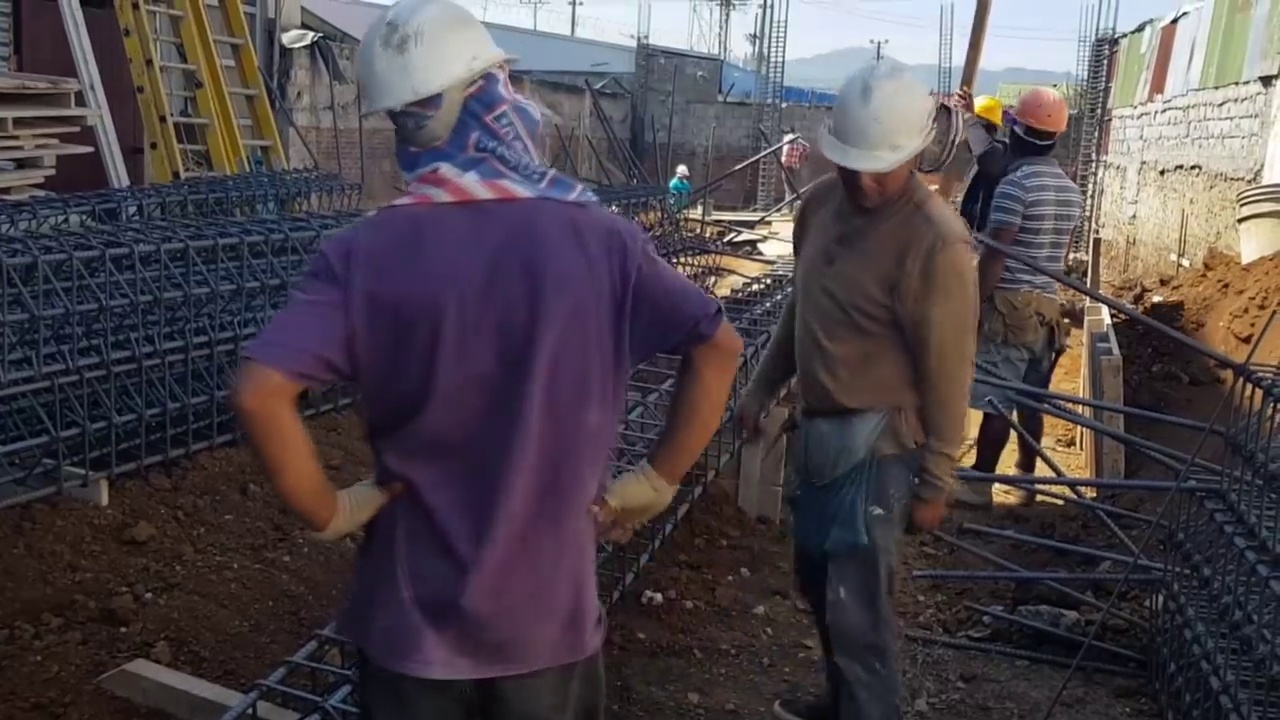helmet: (348, 9, 503, 122), (817, 57, 935, 174), (1009, 88, 1069, 138), (968, 99, 1003, 125), (675, 164, 691, 178)
helmet-off: (778, 120, 795, 141)
helmet-on: (352, 3, 513, 207), (819, 57, 940, 237), (1009, 88, 1069, 164), (966, 98, 1004, 142), (673, 163, 691, 183)
person: (250, 0, 719, 709), (771, 57, 969, 720), (962, 85, 1080, 516), (948, 96, 1013, 224), (779, 122, 810, 212), (668, 162, 691, 209)
